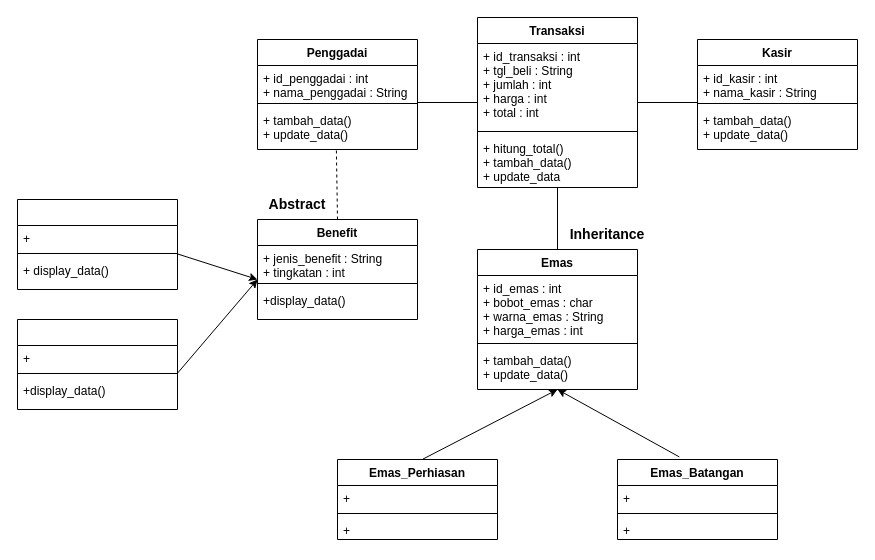
Image size: 875x560. Some labels were removed from this diagram. Here are the shapes that lost their labels. From the top down, the box of each, then its label:
(16, 198, 178, 290): Customer_Reguler
(16, 318, 178, 410): Customer_Priority
